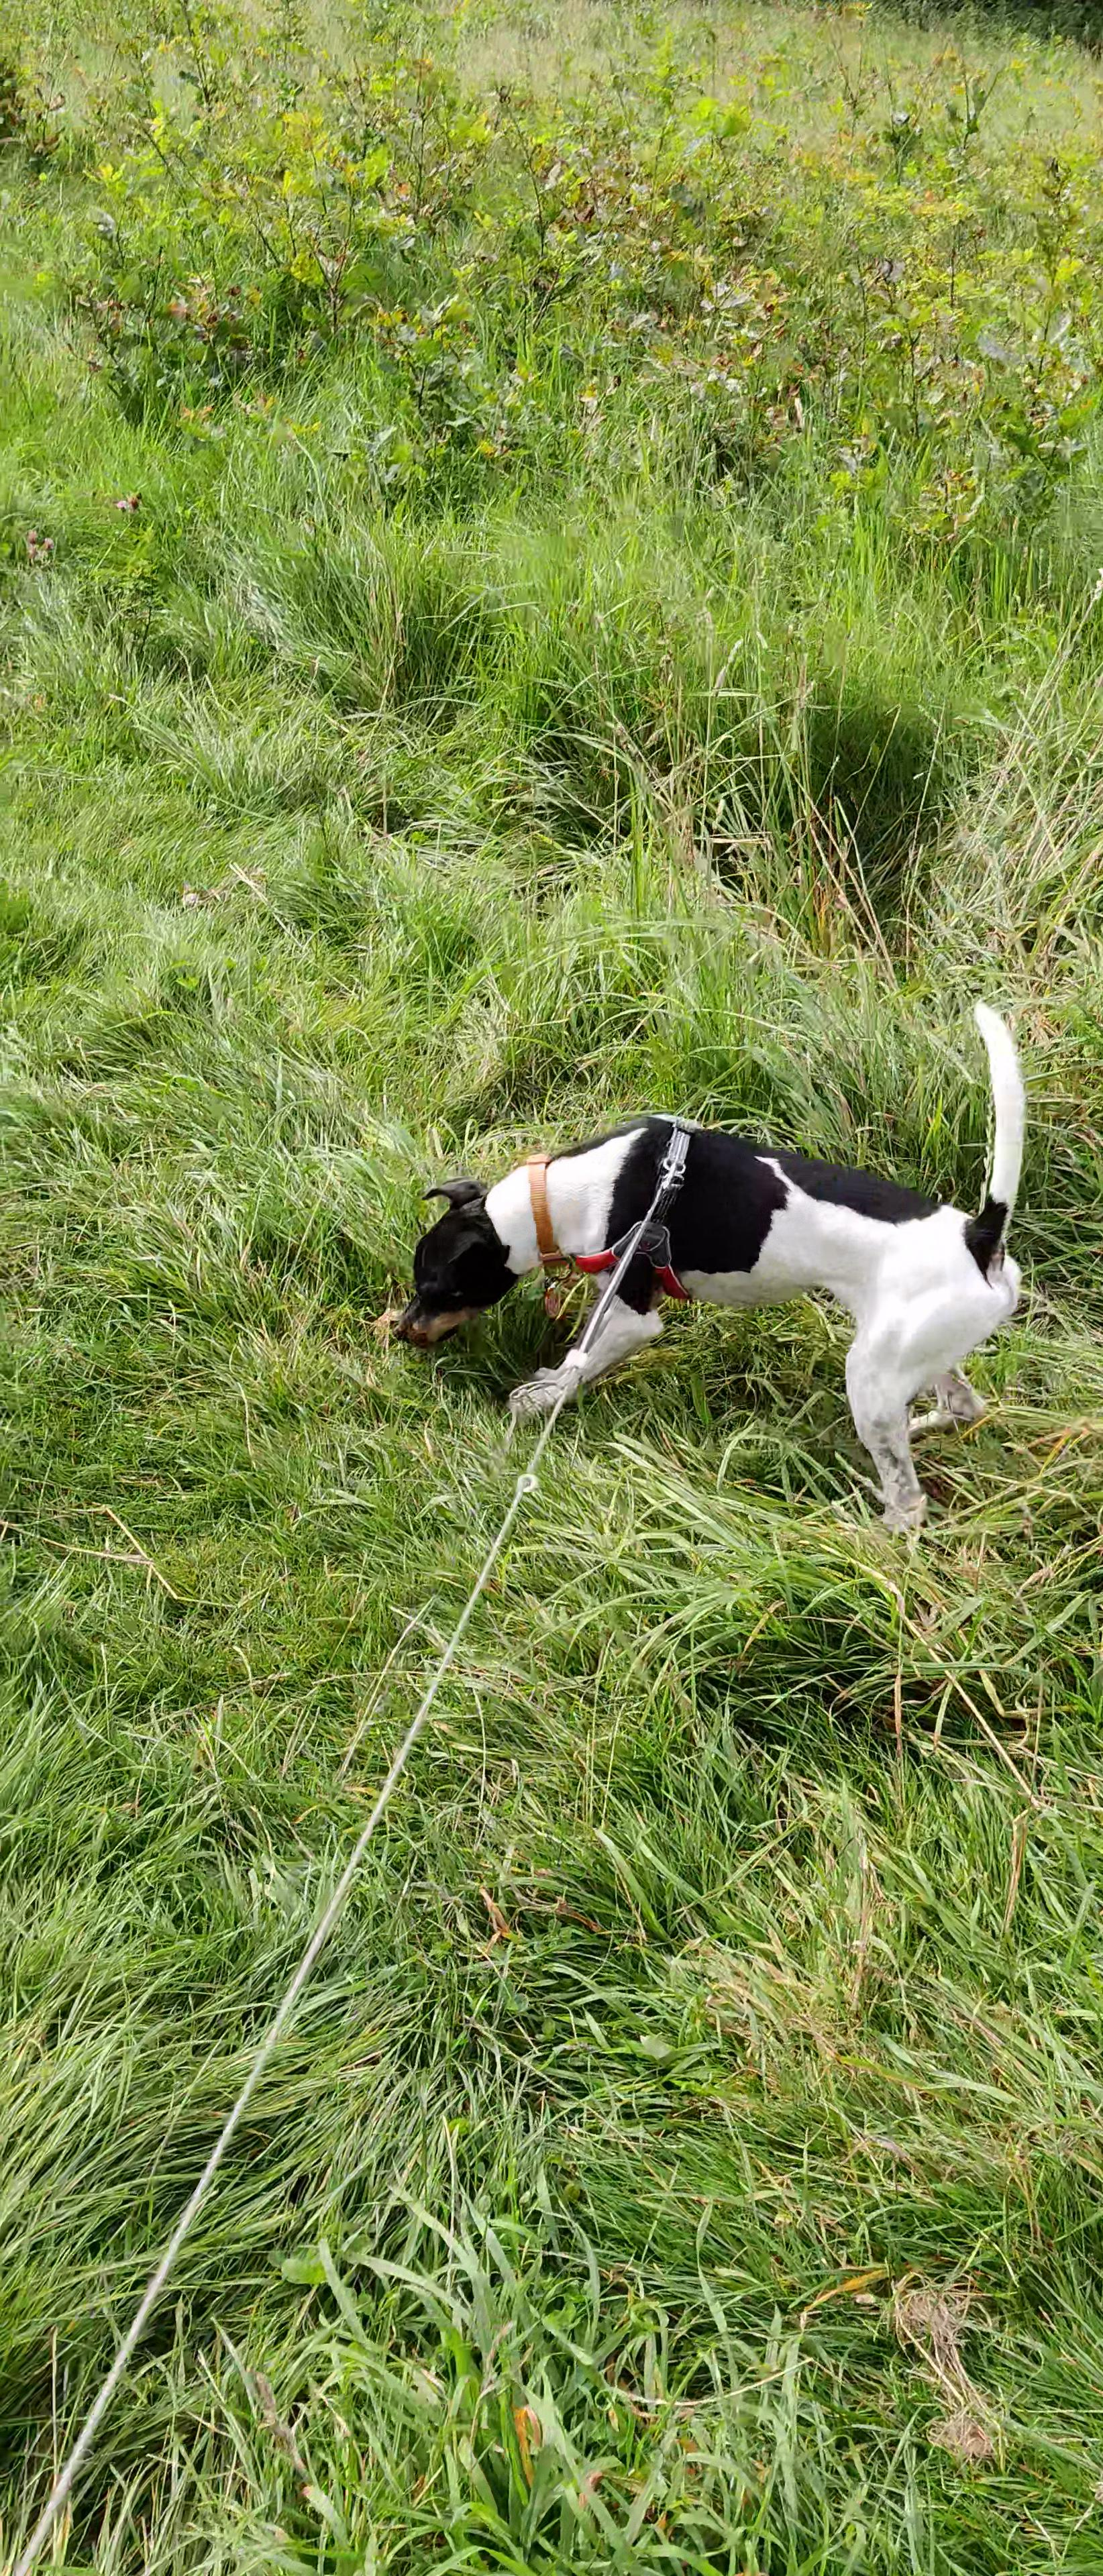Dog: (378, 986, 1044, 1536)
